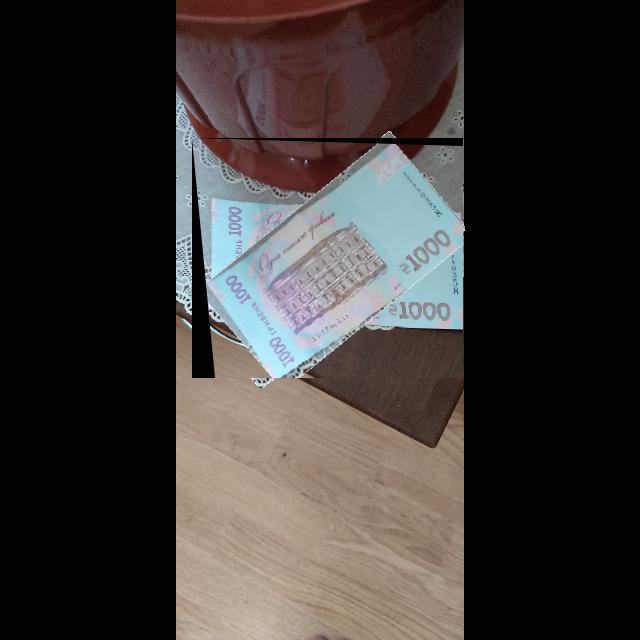1000uah: (204, 143, 464, 379)
